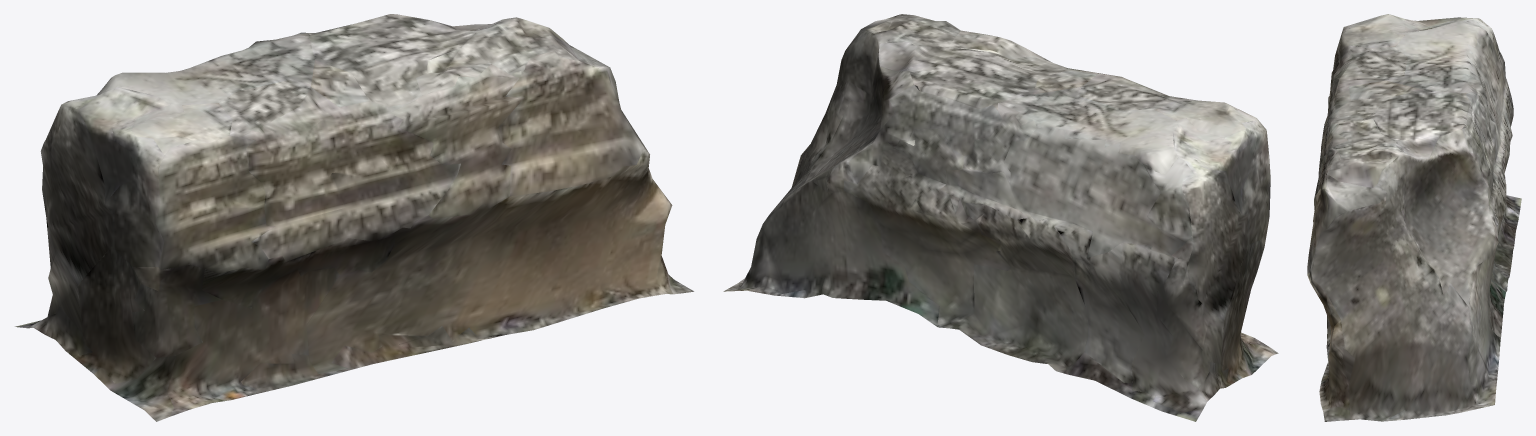
The model's file is carved-laurel-block.glb.
3 renders of one model, left to right at view 1: azimuth 30°, elevation 25°; view 2: azimuth 150°, elevation 25°; view 3: azimuth 270°, elevation 25°, orthographic. The views are drawn at different scales.
Parts seen in each view (by area): view 1: Object_2; view 2: Object_2; view 3: Object_2.
Part boxes in pixels (x1,y1,x2,y2): Object_2: (15,14,693,421); Object_2: (723,14,1278,421); Object_2: (1307,14,1521,421).
Bounding box in the file's own units: 1.14 × 0.5499 × 0.4811.
1 material, 1 textured.
